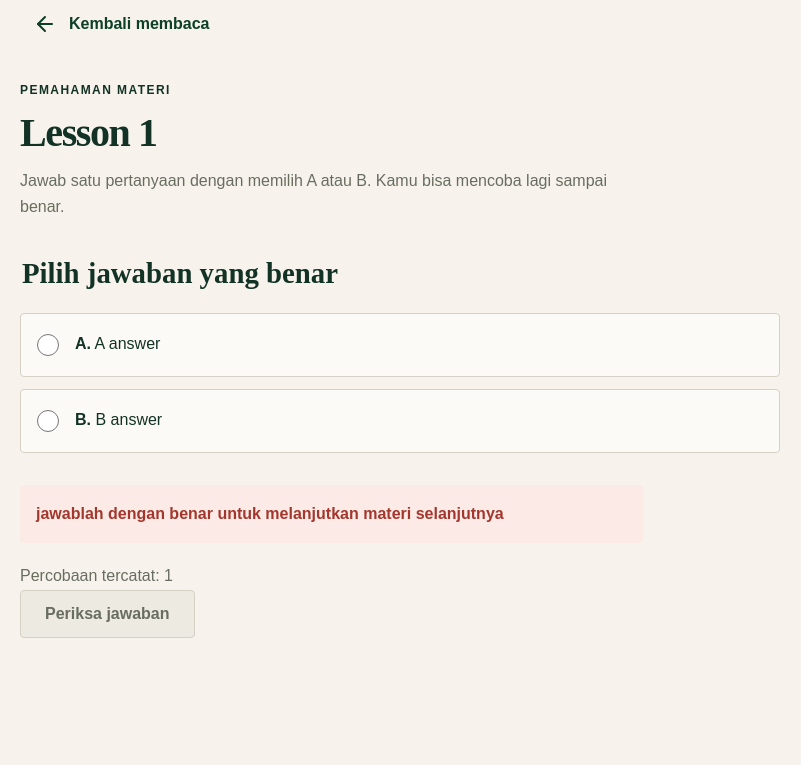
Test: failed submission remains visible after a successful projection read and retains selected retry
Expected: the text "Pilih jawaban yang benar" is shown, [20,253,340,293]
Click the radio button labelled "B. B answer".
click(48, 421)  # box [37,410,59,432]
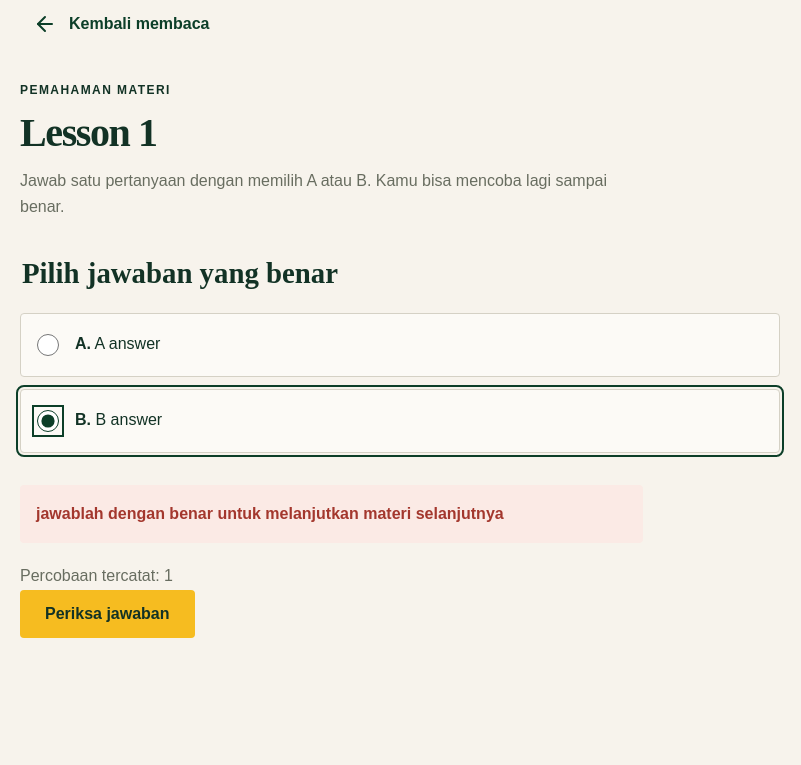
Click the button "Periksa jawaban".
click(107, 614)  # box [20,590,194,638]
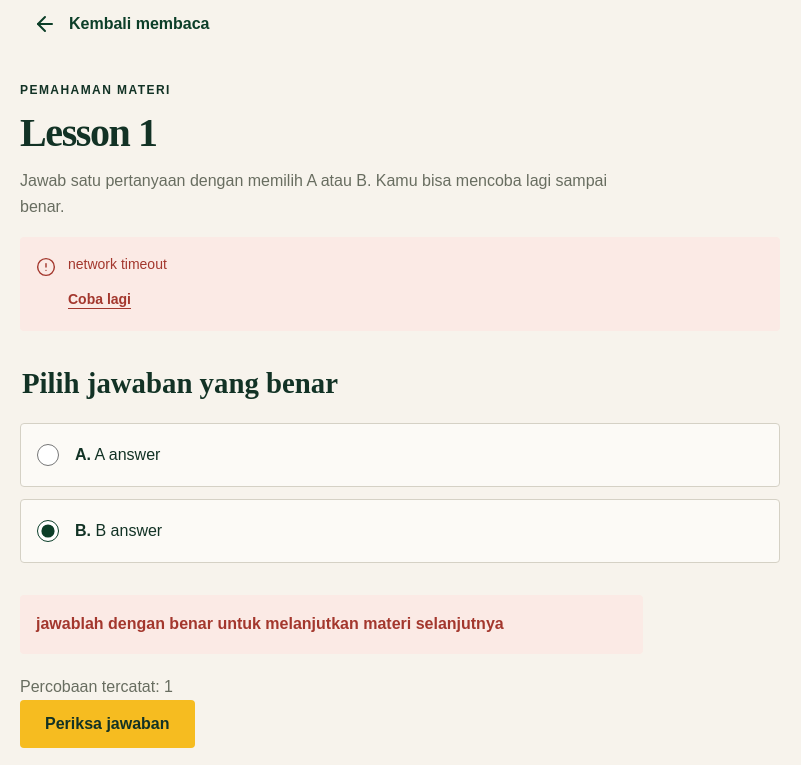
Now the radio button labelled "B. B answer" is checked, box [37,520,59,542]
Now the text "network timeout" is shown, box [68,253,167,275]
